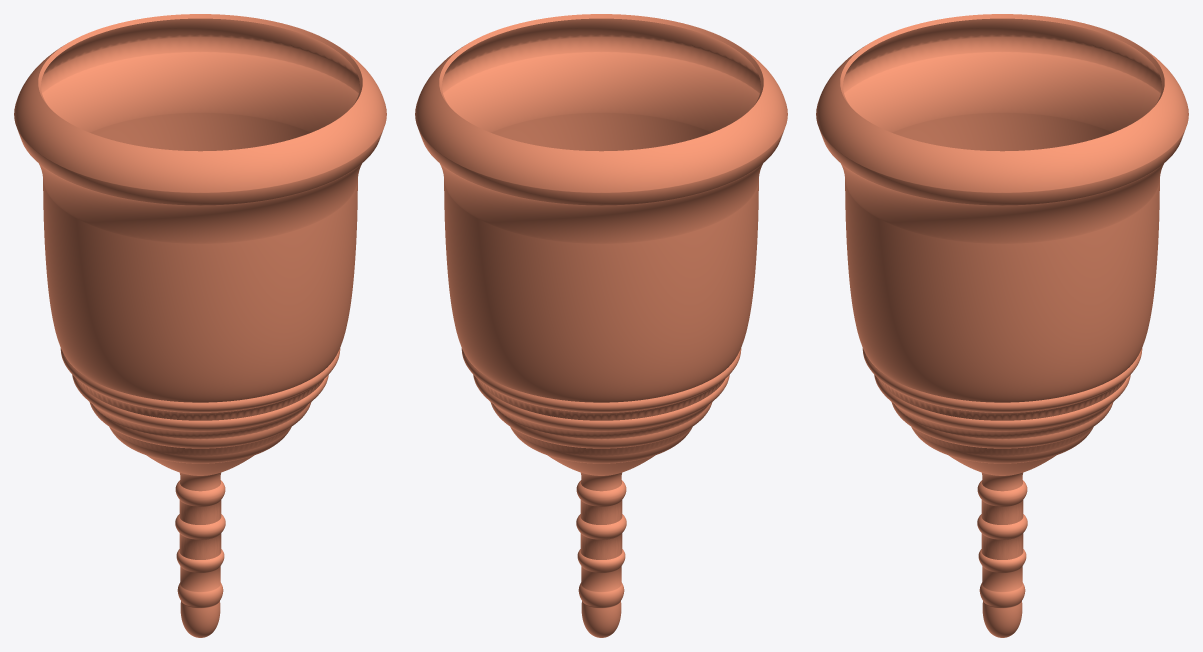
Rendered from atm-lab-hello-disc-3D.gltf.
The picture shows the model from 3 angles, left to right: view 1: azimuth 30°, elevation 25°; view 2: azimuth 150°, elevation 25°; view 3: azimuth 270°, elevation 25°; orthographic projection.
Bounding box in the file's own units: 0.222 × 0.3639 × 0.222.
